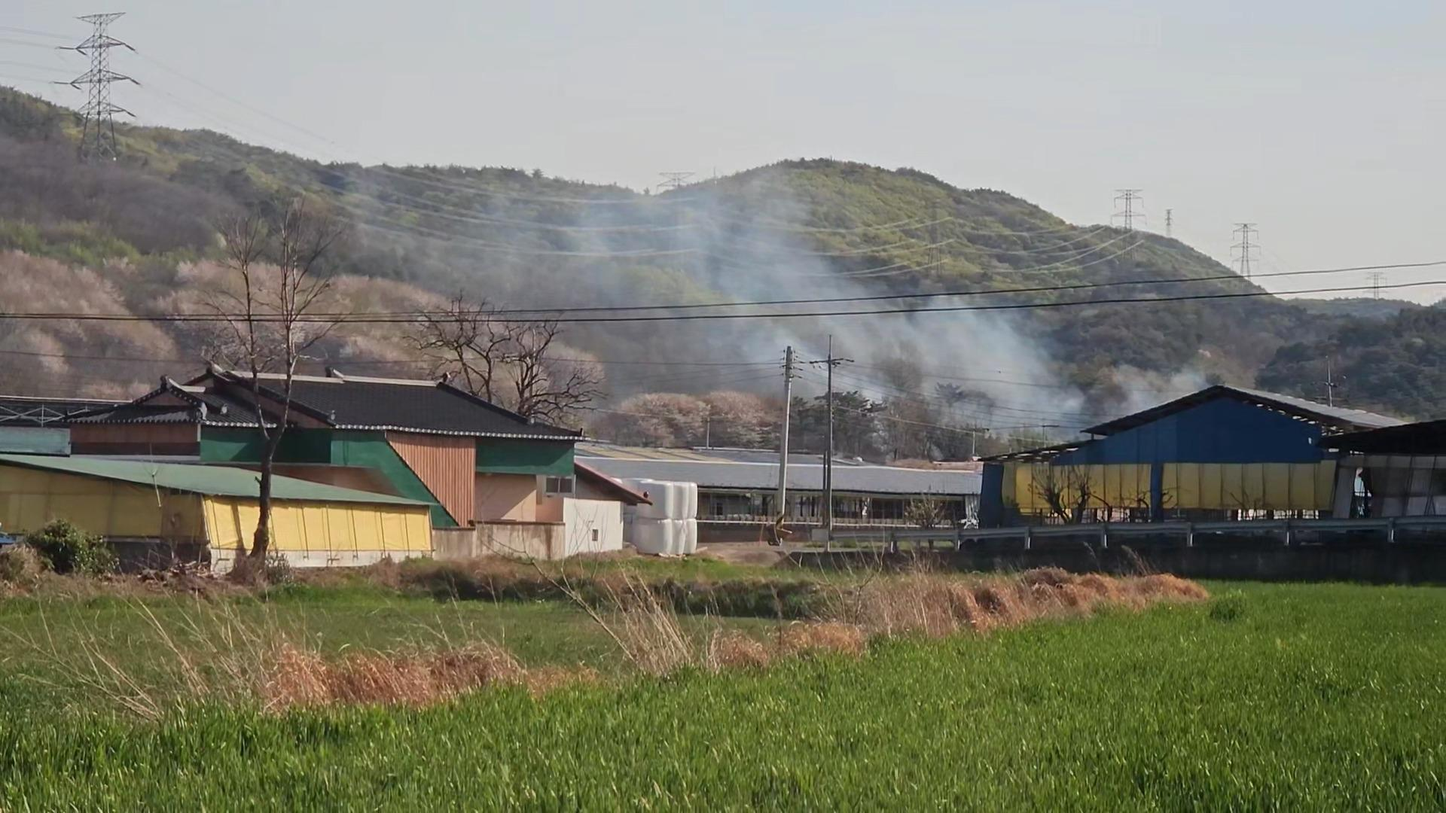smoke: (541, 157, 1082, 445)
